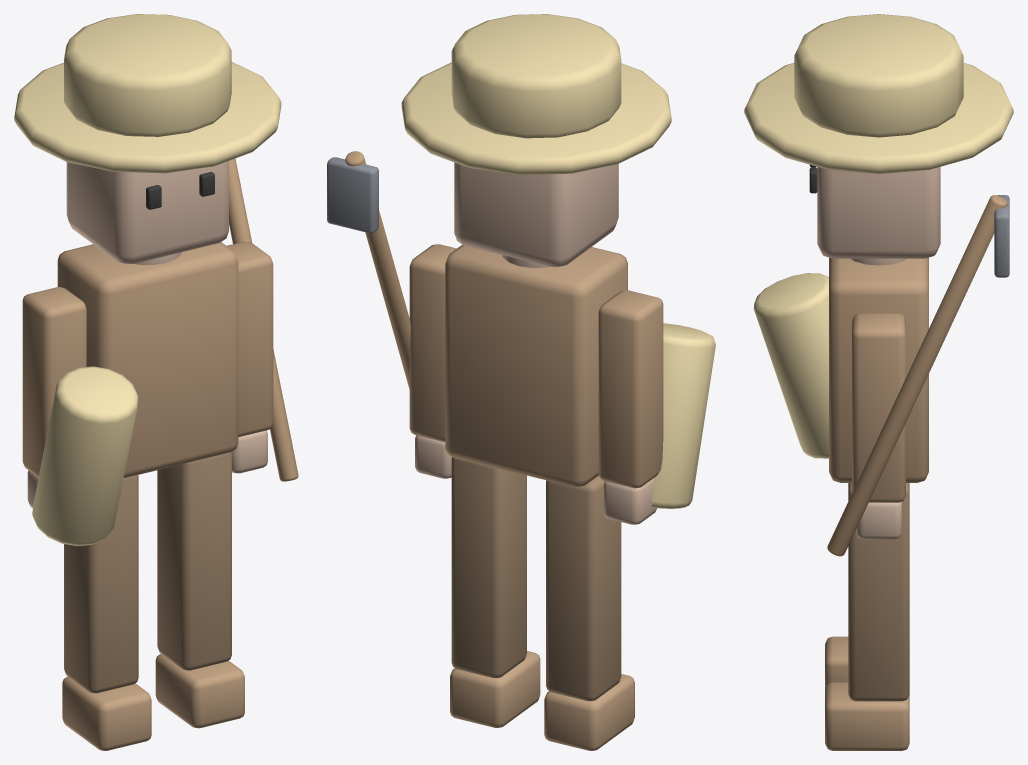
Rendered from npc_farmer.glb.
The picture shows the model from 3 angles, left to right: view 1: azimuth 30°, elevation 25°; view 2: azimuth 150°, elevation 25°; view 3: azimuth 270°, elevation 25°; orthographic projection.
Parts seen in each view (by area): view 1: George_Torso, George_Hat_Cone, George_Leg_R, George_Wheat_Bundle, George_Hat_Rim, George_Head, George_Leg_L, George_Arm_L, George_Arm_R, George_Shoe_L, George_Shoe_R, George_Hoe_Handle (+1 smaller); view 2: George_Torso, George_Hat_Cone, George_Leg_R, George_Leg_L, George_Hat_Rim, George_Head, George_Arm_L, George_Wheat_Bundle, George_Arm_R, George_Shoe_R, George_Shoe_L, George_Hoe_Blade (+3 smaller); view 3: George_Hat_Cone, George_Hat_Rim, George_Torso, George_Head, George_Leg_R, George_Wheat_Bundle, George_Arm_R, George_Hoe_Handle, George_Shoe_R, George_Hand_R, George_Hoe_Blade, George_Shoe_L.
Part boxes in pixels (<box>): George_Torso: <box>57,242,238,478</box>; George_Hat_Cone: <box>64,14,231,136</box>; George_Leg_R: <box>157,452,231,670</box>; George_Wheat_Bundle: <box>32,366,138,546</box>; George_Hat_Rim: <box>14,62,281,173</box>; George_Head: <box>66,161,228,263</box>; George_Leg_L: <box>64,475,138,693</box>; George_Arm_L: <box>22,287,86,477</box>; George_Arm_R: <box>227,241,273,437</box>; George_Shoe_L: <box>62,676,151,750</box>; George_Shoe_R: <box>155,654,244,728</box>; George_Hoe_Handle: <box>229,158,298,481</box>; George_Torso: <box>445,244,627,486</box>; George_Hat_Cone: <box>451,14,621,138</box>; George_Leg_R: <box>451,457,526,678</box>; George_Leg_L: <box>546,475,621,701</box>; George_Hat_Rim: <box>401,62,671,174</box>; George_Head: <box>454,162,618,266</box>; George_Arm_L: <box>598,290,663,488</box>; George_Wheat_Bundle: <box>651,323,715,508</box>; George_Arm_R: <box>409,244,456,441</box>; George_Shoe_R: <box>450,651,540,727</box>; George_Shoe_L: <box>544,674,634,750</box>; George_Hoe_Blade: <box>327,157,378,233</box>; George_Hat_Cone: <box>794,14,963,137</box>; George_Hat_Rim: <box>744,63,1013,173</box>; George_Torso: <box>829,257,928,482</box>; George_Head: <box>817,167,940,258</box>; George_Leg_R: <box>848,483,909,701</box>; George_Wheat_Bundle: <box>753,273,828,458</box>; George_Arm_R: <box>852,313,905,502</box>; George_Hoe_Handle: <box>827,195,1007,556</box>; George_Shoe_R: <box>825,682,909,750</box>; George_Hand_R: <box>856,502,901,539</box>; George_Hoe_Blade: <box>994,195,1009,277</box>; George_Shoe_L: <box>825,636,848,688</box>.
Bounding box in the file's own units: 0.82 × 1.93 × 0.7.
